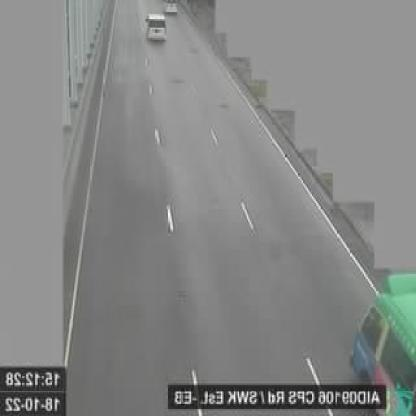Car: (143, 12, 167, 44), (164, 0, 178, 15)
Minibus: (349, 272, 416, 414)
